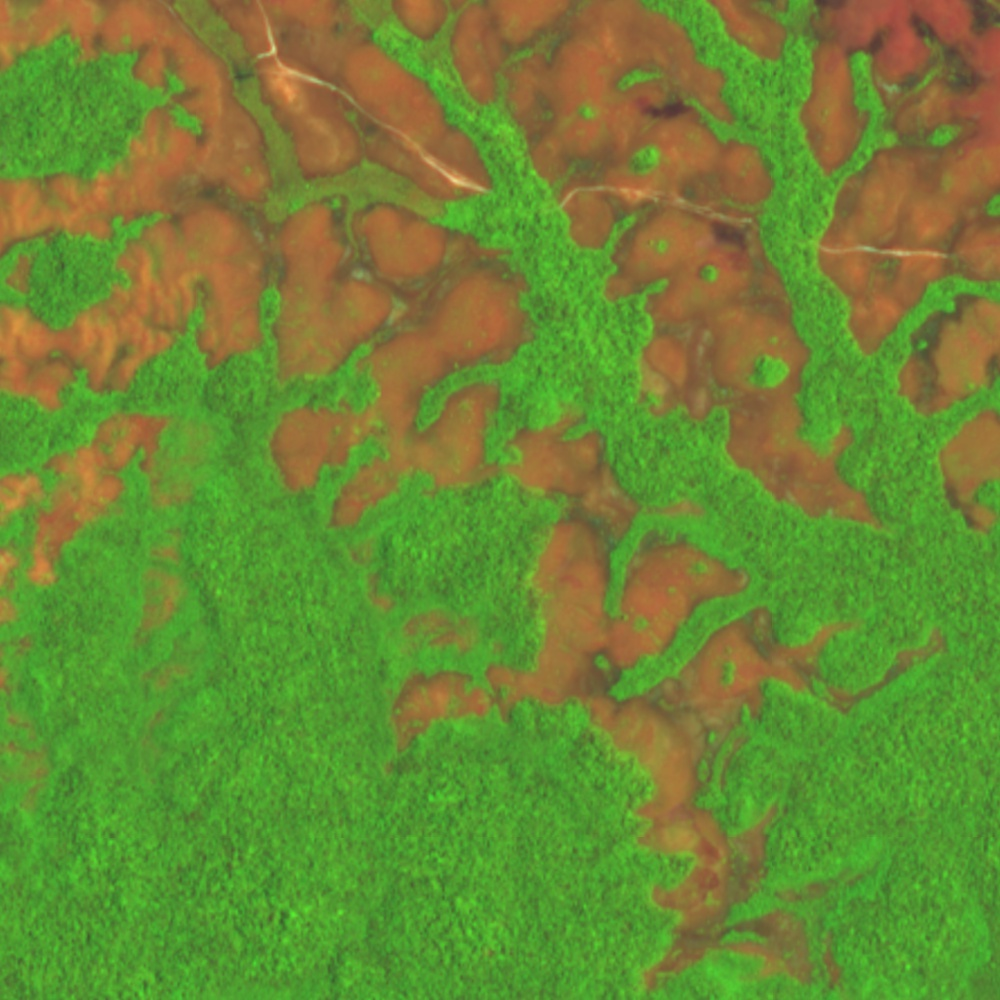legal: (1, 1, 536, 524), (398, 1, 891, 532), (386, 604, 950, 767), (577, 680, 845, 989), (1, 406, 209, 796), (814, 1, 1000, 352), (502, 411, 752, 601), (895, 293, 1000, 416), (933, 409, 1000, 538)
